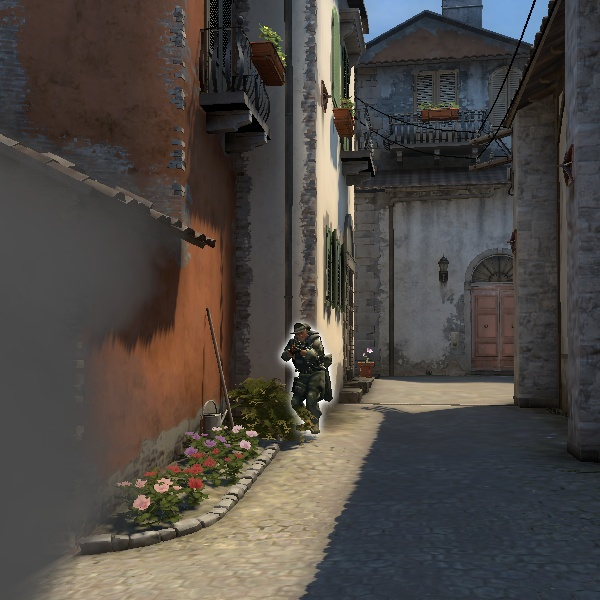t_body: (354, 346, 382, 396)
